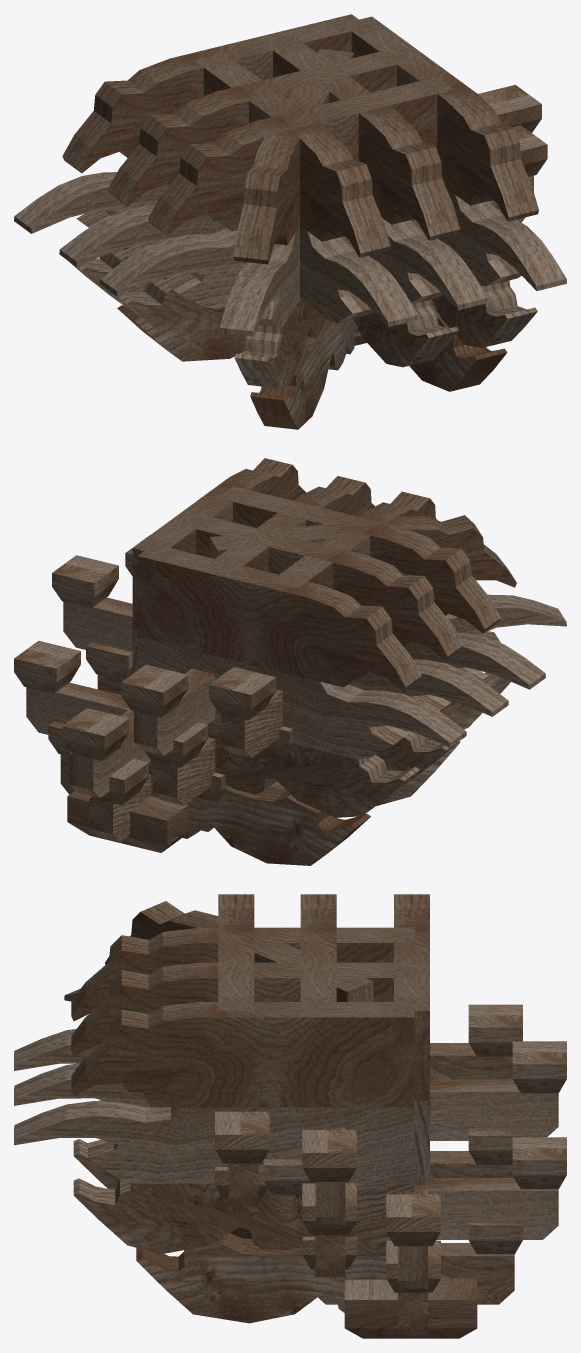
Rendered from SM_Sun_Kak_Gonpo_B.fbx.
The picture shows the model from 3 angles, top to bottom: view 1: azimuth 30°, elevation 25°; view 2: azimuth 150°, elevation 25°; view 3: azimuth 270°, elevation 25°; orthographic projection. The views are drawn at different scales.
Visible parts, largest first — view 1: SM_Sun_Kak_Gonpo_B; view 2: SM_Sun_Kak_Gonpo_B; view 3: SM_Sun_Kak_Gonpo_B.
Part boxes in pixels (left/top/right/bottom): SM_Sun_Kak_Gonpo_B: left=14, top=14, right=566, bottom=429; SM_Sun_Kak_Gonpo_B: left=14, top=458, right=566, bottom=865; SM_Sun_Kak_Gonpo_B: left=14, top=894, right=566, bottom=1338.
Size of the model in its own units: 163 by 101 by 163.
